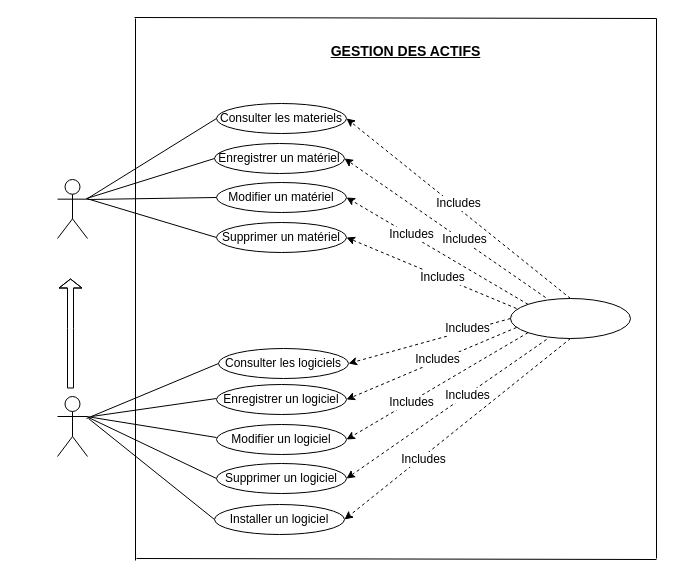
Some shapes in this 675 by 579 pixel diagram are drawn without their labels. The centre of each missing label's shape, as x and y in pixels:
"RESPONSABLE INFRASTRUCTURE" goes at (72,426).
"S'authentifier" goes at (570,318).
"TECHNICIEN INFRASTRUCTURE" goes at (72,208).
